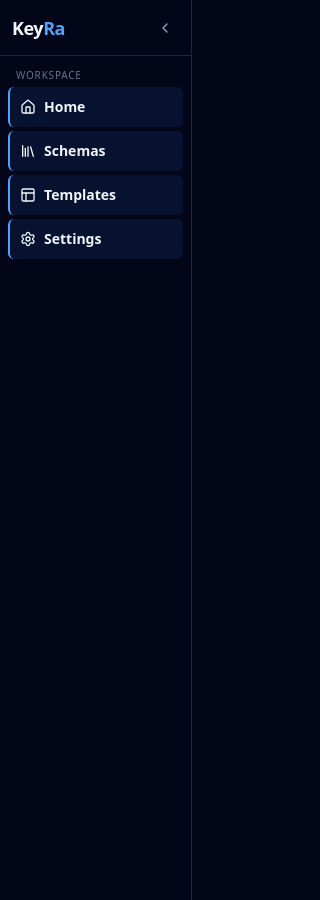
Scenario: NavBar › supports collapsing to icon-only mode and expanding back (AE-02)
Expected: the text "Workspace" is shown, [16, 68, 82, 82]
Step 1. Click the button named "Collapse sidebar" → (165, 28), box [151, 14, 179, 42]
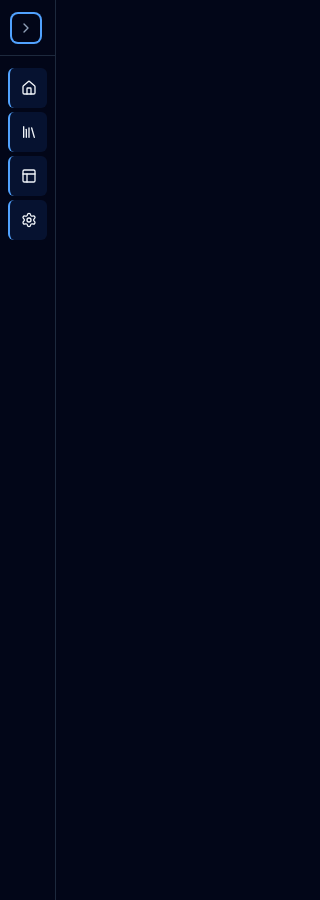
Now the text "Workspace" is gone
Step 2. Click the button named "Expand sidebar" → (26, 28), box [12, 14, 40, 42]
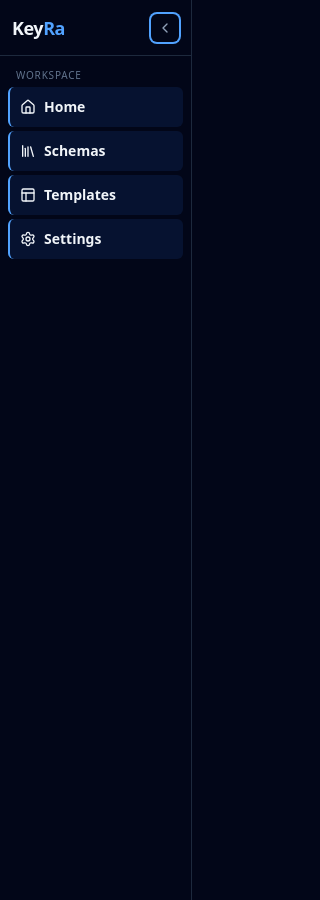
Now the text "Workspace" is shown, box [16, 68, 82, 82]
